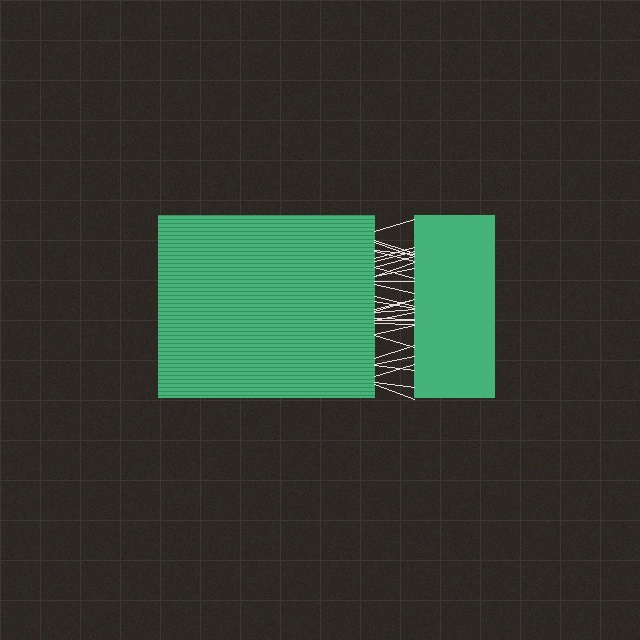stringing: (369, 215, 419, 397)
